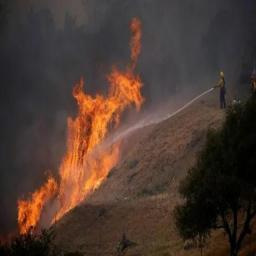Low smoke: (2, 1, 112, 71), (150, 2, 249, 75), (4, 75, 63, 153)
Medium fire: (9, 30, 142, 233)
